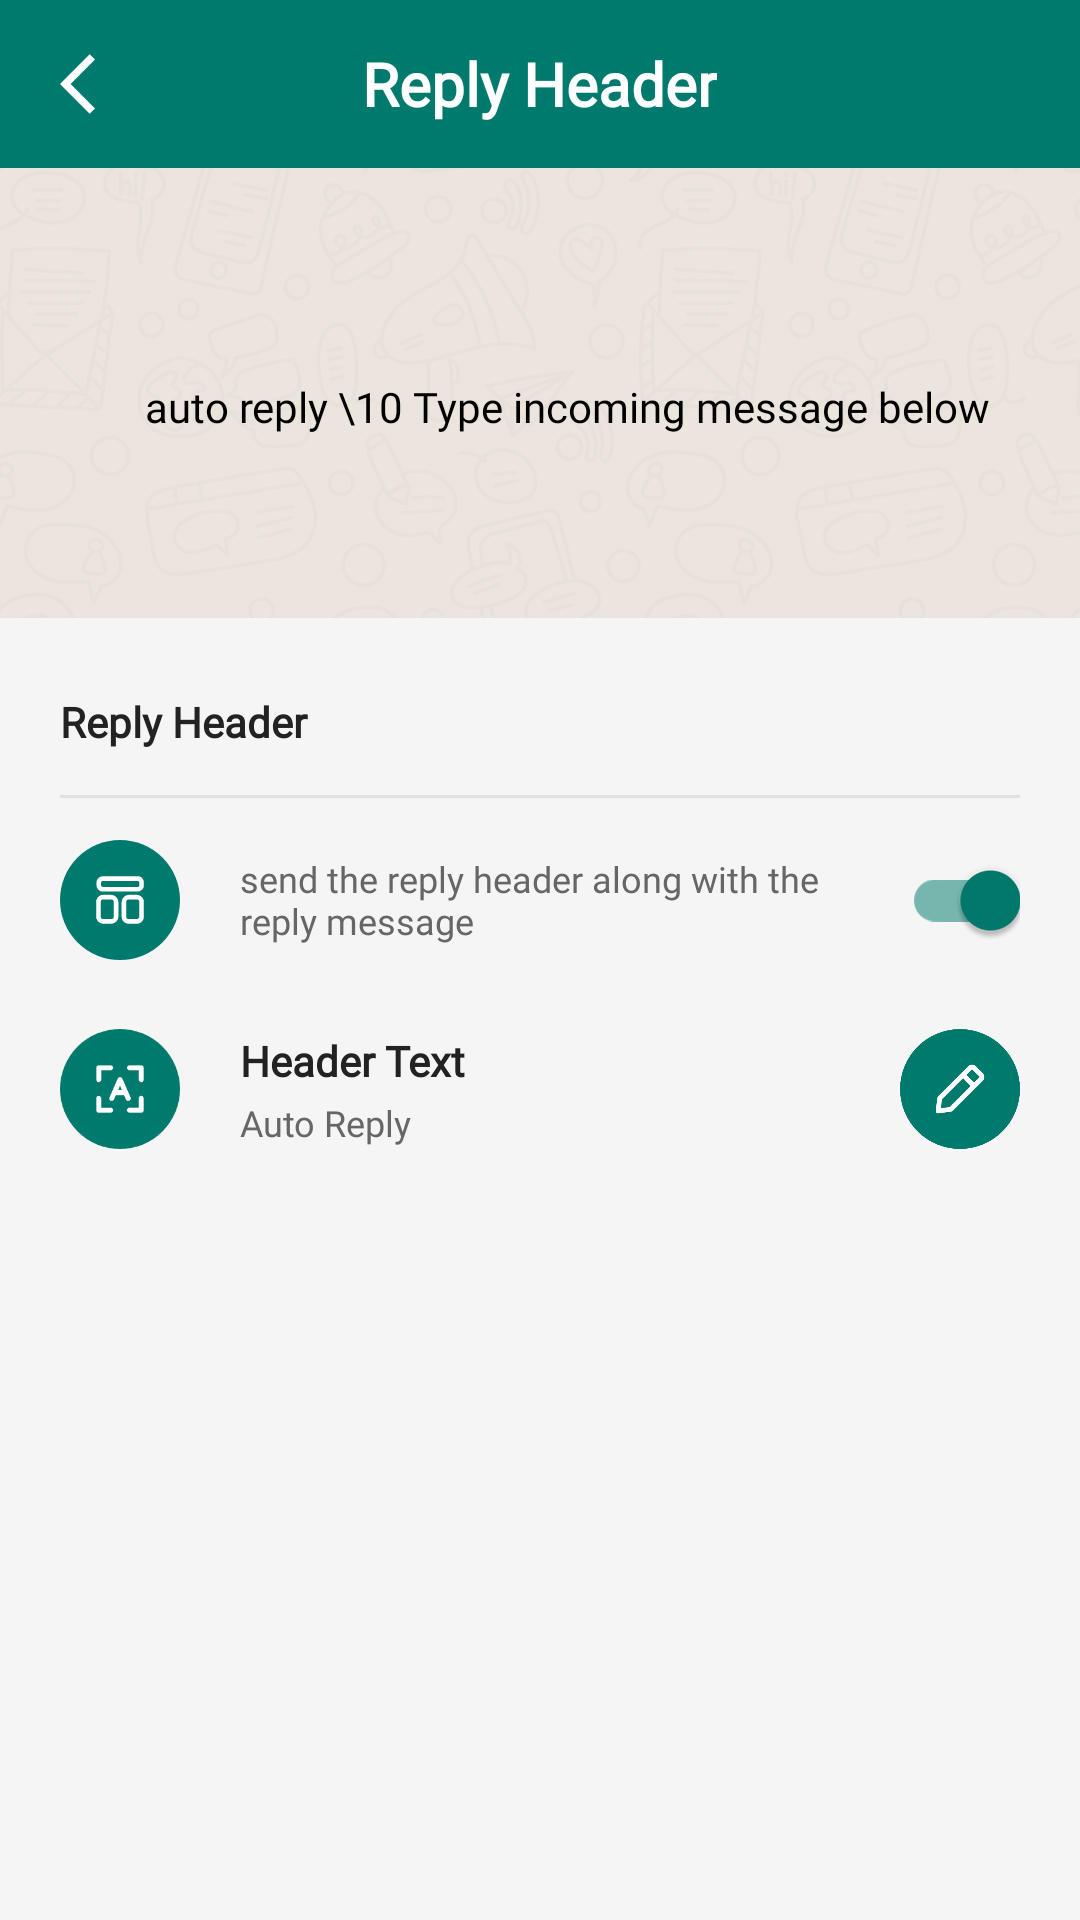

Where icons sit on this 1080px x 1920px app screen, as Rect(x1, y1, x2, y2):
arrow back: Rect(60, 54, 95, 114)
pencil: Rect(900, 1029, 1020, 1149)
